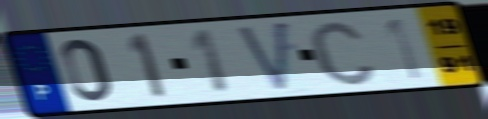0: (58, 37, 114, 104)
1: (126, 31, 171, 100), (189, 26, 231, 97), (384, 17, 424, 80)
C: (305, 18, 380, 88)
V: (234, 18, 291, 95)
